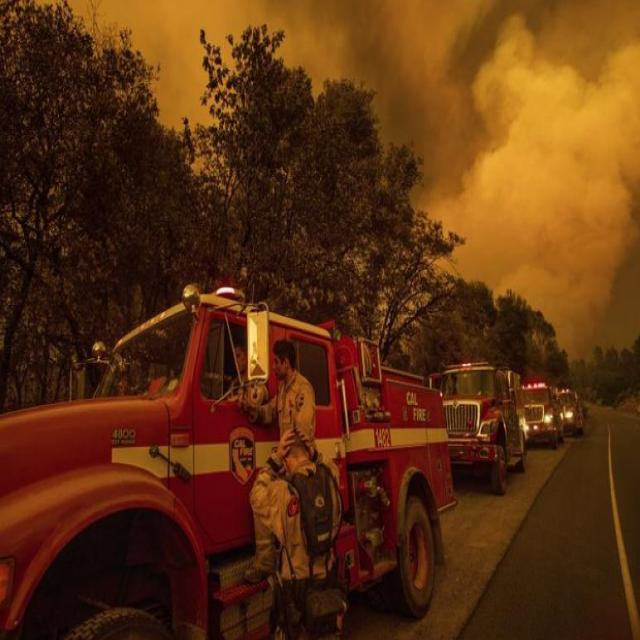Smoke: (469, 24, 635, 340)
